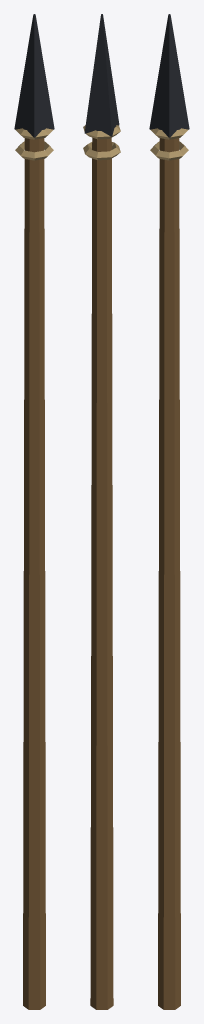
The model's file is Spear.fbx.
3 renders of one model, left to right at view 1: azimuth 90°, elevation 25°; view 2: azimuth 210°, elevation 25°; view 3: azimuth 270°, elevation 25°, orthographic.
Visible parts, largest first — view 1: Spear; view 2: Spear; view 3: Spear.
Boxes of the visible parts, left/top/right/bottom form: Spear: left=14, top=14, right=54, bottom=1009; Spear: left=83, top=14, right=120, bottom=1009; Spear: left=149, top=14, right=189, bottom=1009.
Bounding box in the file's own units: 0.07 × 1.9 × 0.07.
